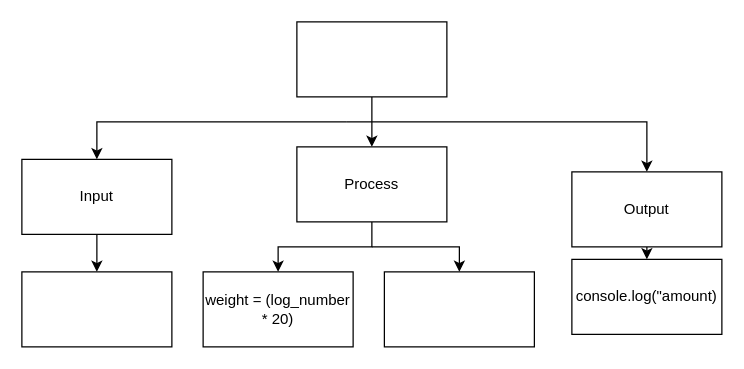
Image size: 744x369. Some labels were removed from this diagram. Each missing label, with the box of its shape:
amount = (1100 * weight): (383, 271, 534, 347)
get log_number: (21, 271, 172, 347)
Log Program: (296, 21, 447, 97)
